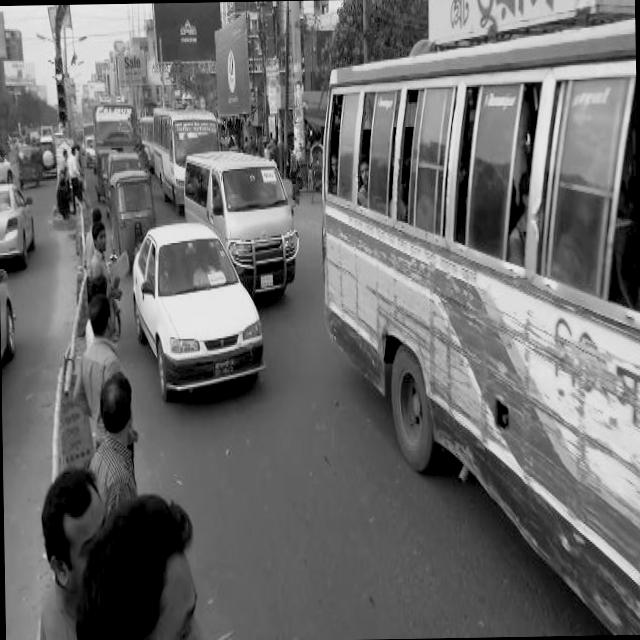bus: (315, 17, 640, 632), (149, 96, 218, 215), (89, 94, 140, 164)
car: (128, 220, 268, 404)
motorcycle: (104, 165, 155, 269), (15, 144, 44, 188)
truck: (181, 144, 301, 314)
